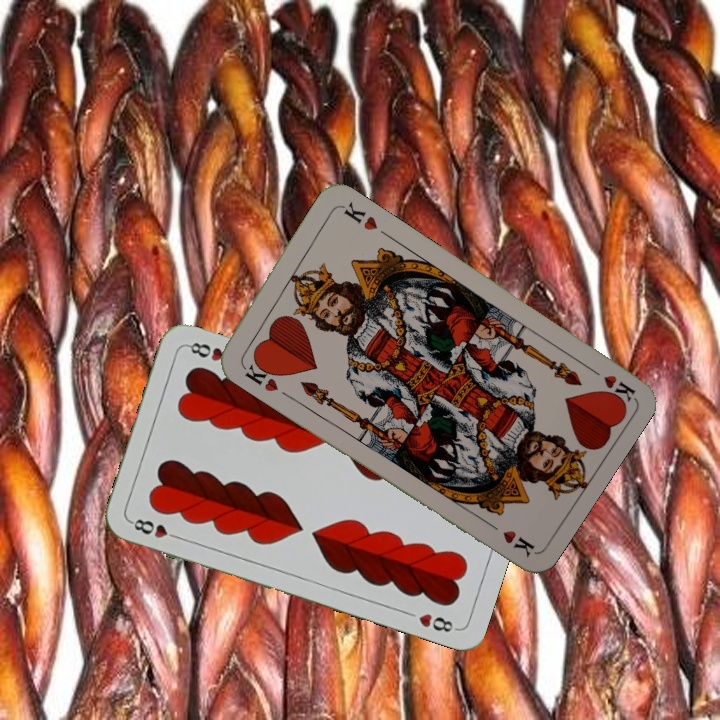H8: (127, 514, 184, 542)
HK: (582, 361, 638, 407), (237, 354, 283, 395)
